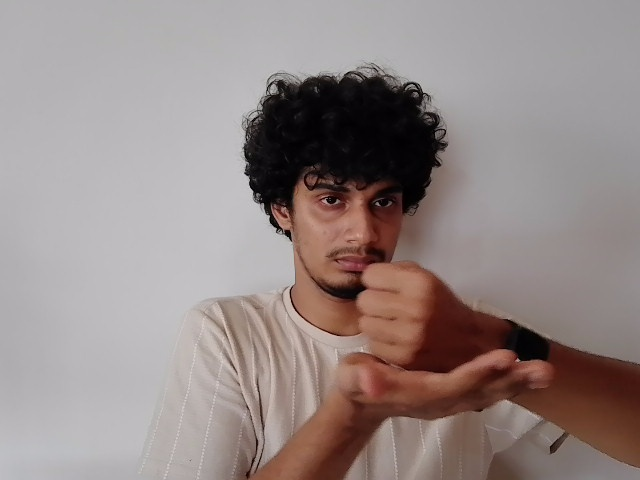help: (328, 258, 574, 417)
